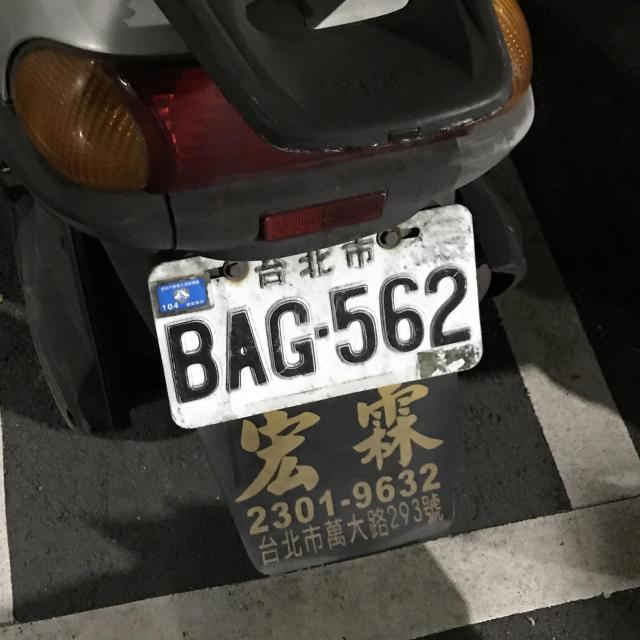W: (135, 214, 495, 432)
